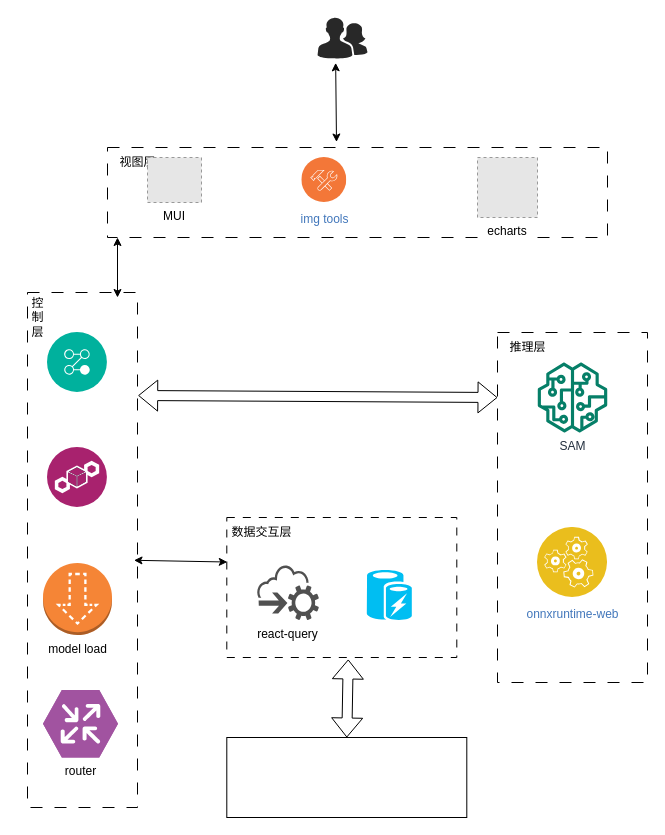
This 665x835 diagram has some shape labels left out. Grey dashed boxes stand in for pictures. The centre of each missing label's shape, as x and y in pixels:
"cache" goes at point (388, 595).
"img process" goes at point (77, 362).
"UI control" goes at point (77, 477).
"后端" goes at point (346, 777).
